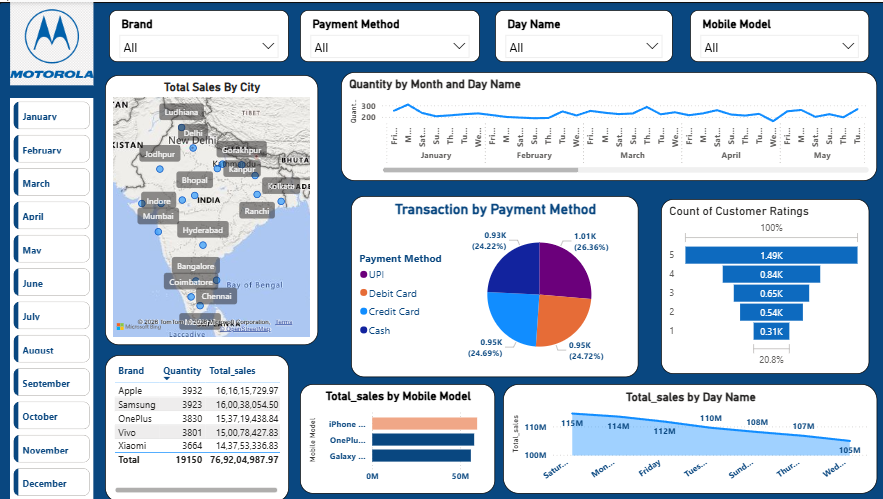

The dashboard page shown, as its layout file describes it:
{"tool":"powerbi","page":{"name":"Page 1","canvas":[1280,720],"ordinal":0},"visuals":[{"type":"image","box":[0,0,152.2,120.3],"z":0},{"type":"advancedSlicerVisual","fields":{"Values":["Sheet1.Date_of_birth.Variation.Date Hierarchy.Month"]},"box":[15.9,137.7,120.3,582.6],"z":1000},{"type":"funnel","title":"Count of Customer Ratings ","fields":{"Category":["Sheet1.Customer Ratings"],"Y":["CountNonNull(Sheet1.Customer Ratings)"]},"box":[953.6,284.1,300,252.2],"z":2000},{"type":"pieChart","title":"Transaction by Payment Method","fields":{"Category":["Sheet1.Payment Method"],"Y":["CountNonNull(Sheet1.Transaction ID)"]},"box":[507.2,279.7,414.5,260.9],"z":3000},{"type":"areaChart","title":"Total_sales by Day Name","fields":{"Y":["Sheet1.Total_sales"],"Category":["Sheet1.Day Name.1"]},"box":[726.1,550.7,539.1,158],"z":4000},{"type":"clusteredBarChart","fields":{"Y":["Sheet1.Total_sales"],"Category":["Sheet1.Mobile Model"]},"box":[433.3,550.7,281.2,158],"z":5000},{"type":"tableEx","fields":{"Values":["Sheet1.Brand","Sheet1.Quantity","Sheet1.Total_sales"]},"box":[152.6,508.3,265,211.7],"z":6000},{"type":"lineChart","title":"Quantity by Month and Day Name","fields":{"Category":["Sheet1.Date_of_birth.Variation.Date Hierarchy.Month","Sheet1.Day Name.1"],"Y":["Sheet1.Quantity"]},"box":[492.5,100.8,771.8,157],"z":7000},{"type":"map","title":"Total Sales By City","fields":{"Category":["Sheet1.City"]},"box":[152.6,105.1,306.7,388.8],"z":8000},{"type":"slicer","fields":{"Values":["Sheet1.Brand"]},"box":[158.4,11.5,259.2,74.9],"z":8001},{"type":"slicer","fields":{"Values":["Sheet1.Payment Method"]},"box":[433.4,11.5,259.2,74.9],"z":8002},{"type":"slicer","fields":{"Values":["Sheet1.Day Name.1"]},"box":[714.2,11.5,256.3,74.9],"z":8003},{"type":"slicer","fields":{"Values":["Sheet1.Mobile Model"]},"box":[995,11.5,257.8,74.9],"z":8004}]}

Visuals, with their boxes in screenshot pixels (x1, y1, x2, y2), scaled from the page's 1280x720 canvas onto the 883x499 screenshot:
image: [0, 0, 105, 83]
advancedSlicerVisual - Sheet1.Date_of_birth.Variation.Date Hierarchy.Month: [11, 95, 94, 498]
"Count of Customer Ratings " funnel: [658, 197, 865, 372]
"Transaction by Payment Method" pieChart: [350, 194, 636, 375]
"Total_sales by Day Name" areaChart: [501, 382, 873, 491]
clusteredBarChart - Sheet1.Total_sales x Sheet1.Mobile Model: [299, 382, 493, 491]
tableEx - Sheet1.Brand x Sheet1.Quantity: [105, 352, 288, 498]
"Quantity by Month and Day Name" lineChart: [340, 70, 872, 179]
"Total Sales By City" map: [105, 73, 317, 342]
slicer - Sheet1.Brand: [109, 8, 288, 60]
slicer - Sheet1.Payment Method: [299, 8, 478, 60]
slicer - Sheet1.Day Name.1: [493, 8, 669, 60]
slicer - Sheet1.Mobile Model: [686, 8, 864, 60]
